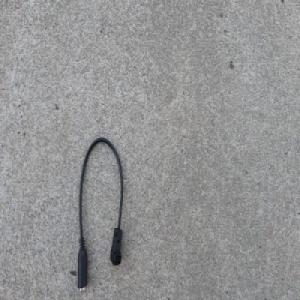Wire: (75, 135, 125, 293)
